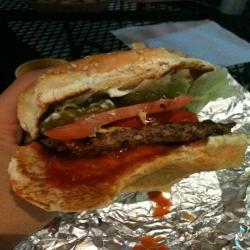burger: (12, 49, 238, 205)
